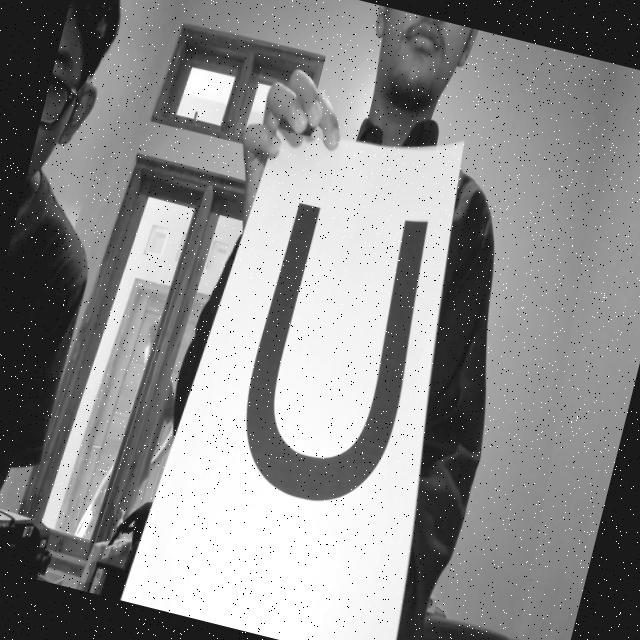u: (212, 174, 456, 530)
